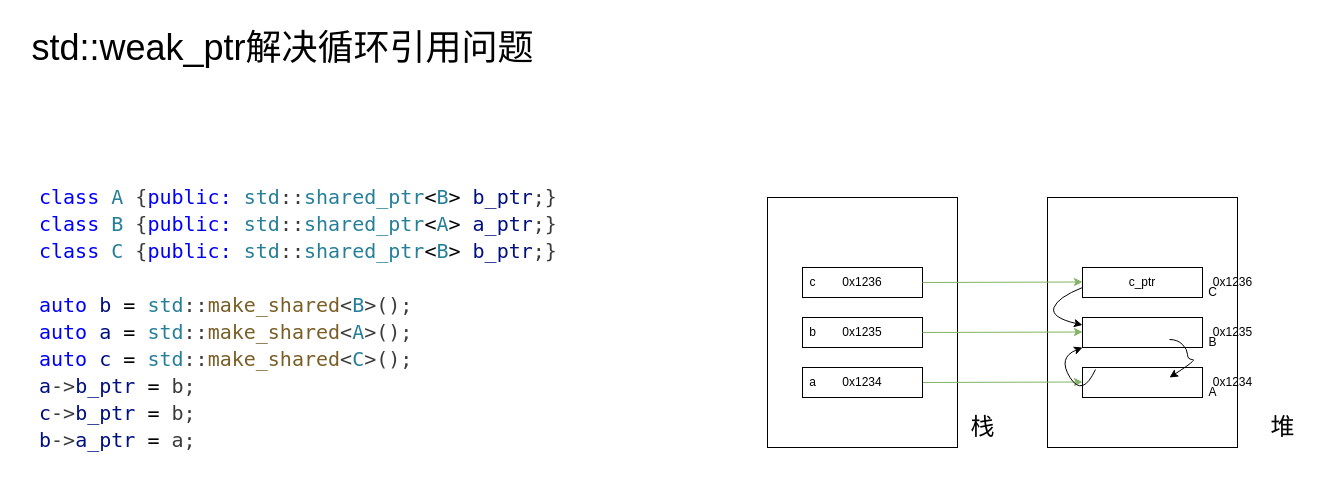
This 1324x484 diagram has some shape labels left out. The box of each missing label's shape, as (x1, y1, x2, y2) in pixels:
a_ptr: (1082, 316, 1202, 348)
b_ptr: (1082, 366, 1202, 398)
